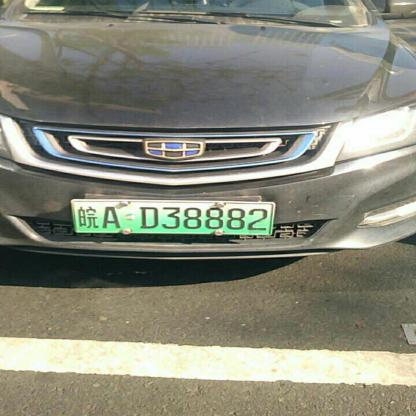lp: (74, 202, 272, 233)
